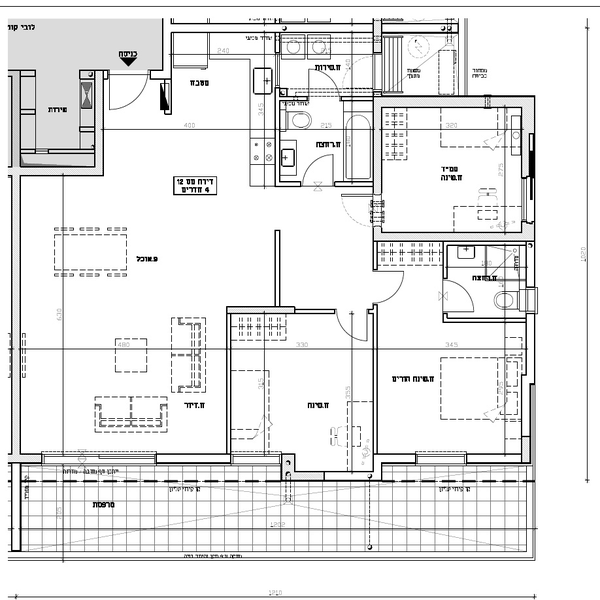door: (110, 76, 147, 110), (302, 152, 338, 185), (445, 277, 475, 316), (374, 270, 406, 305), (336, 310, 370, 342), (309, 70, 341, 103)
room: (9, 166, 232, 461), (369, 232, 534, 463), (227, 304, 380, 473), (374, 94, 537, 245), (13, 74, 109, 176)
wall: (11, 176, 22, 455), (525, 244, 537, 464), (174, 23, 375, 34), (375, 95, 535, 108), (6, 70, 22, 168), (375, 231, 522, 240), (21, 164, 106, 177), (374, 100, 383, 194), (522, 109, 534, 175), (97, 72, 103, 172), (227, 307, 289, 314), (225, 311, 228, 449)
window: (44, 453, 156, 467), (415, 454, 467, 468), (235, 452, 282, 467)
